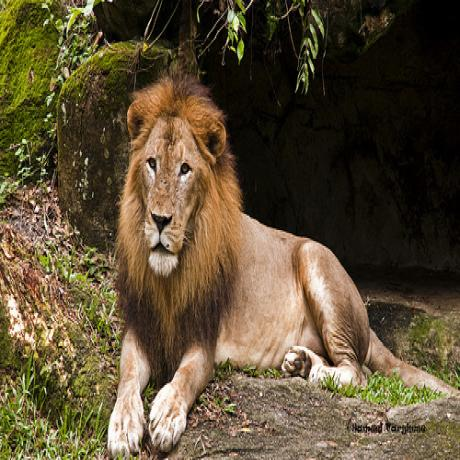Lion: (100, 71, 377, 458)
